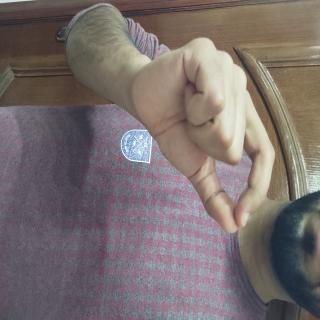FAA: (24, 48, 178, 269)
